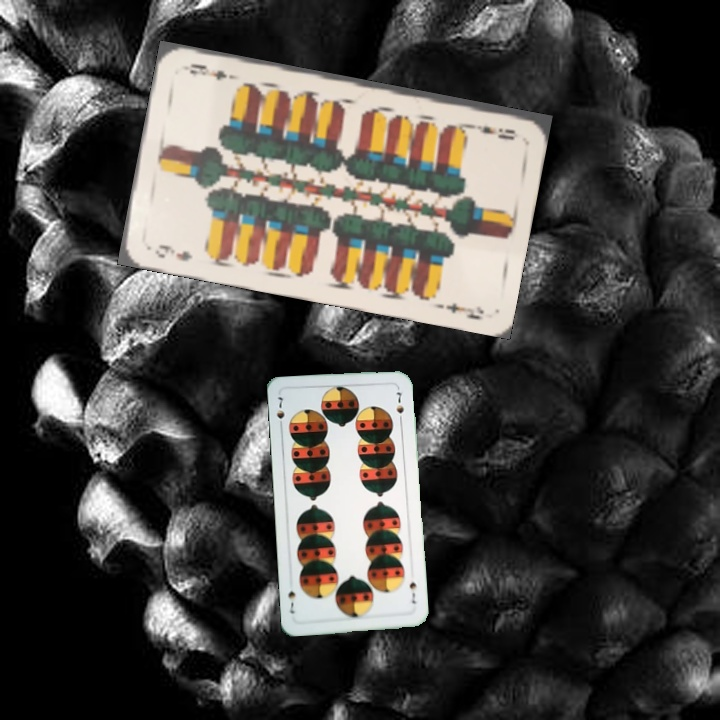E9: (463, 119, 521, 143), (151, 240, 195, 264)
S7: (273, 393, 287, 432), (405, 578, 418, 606)
